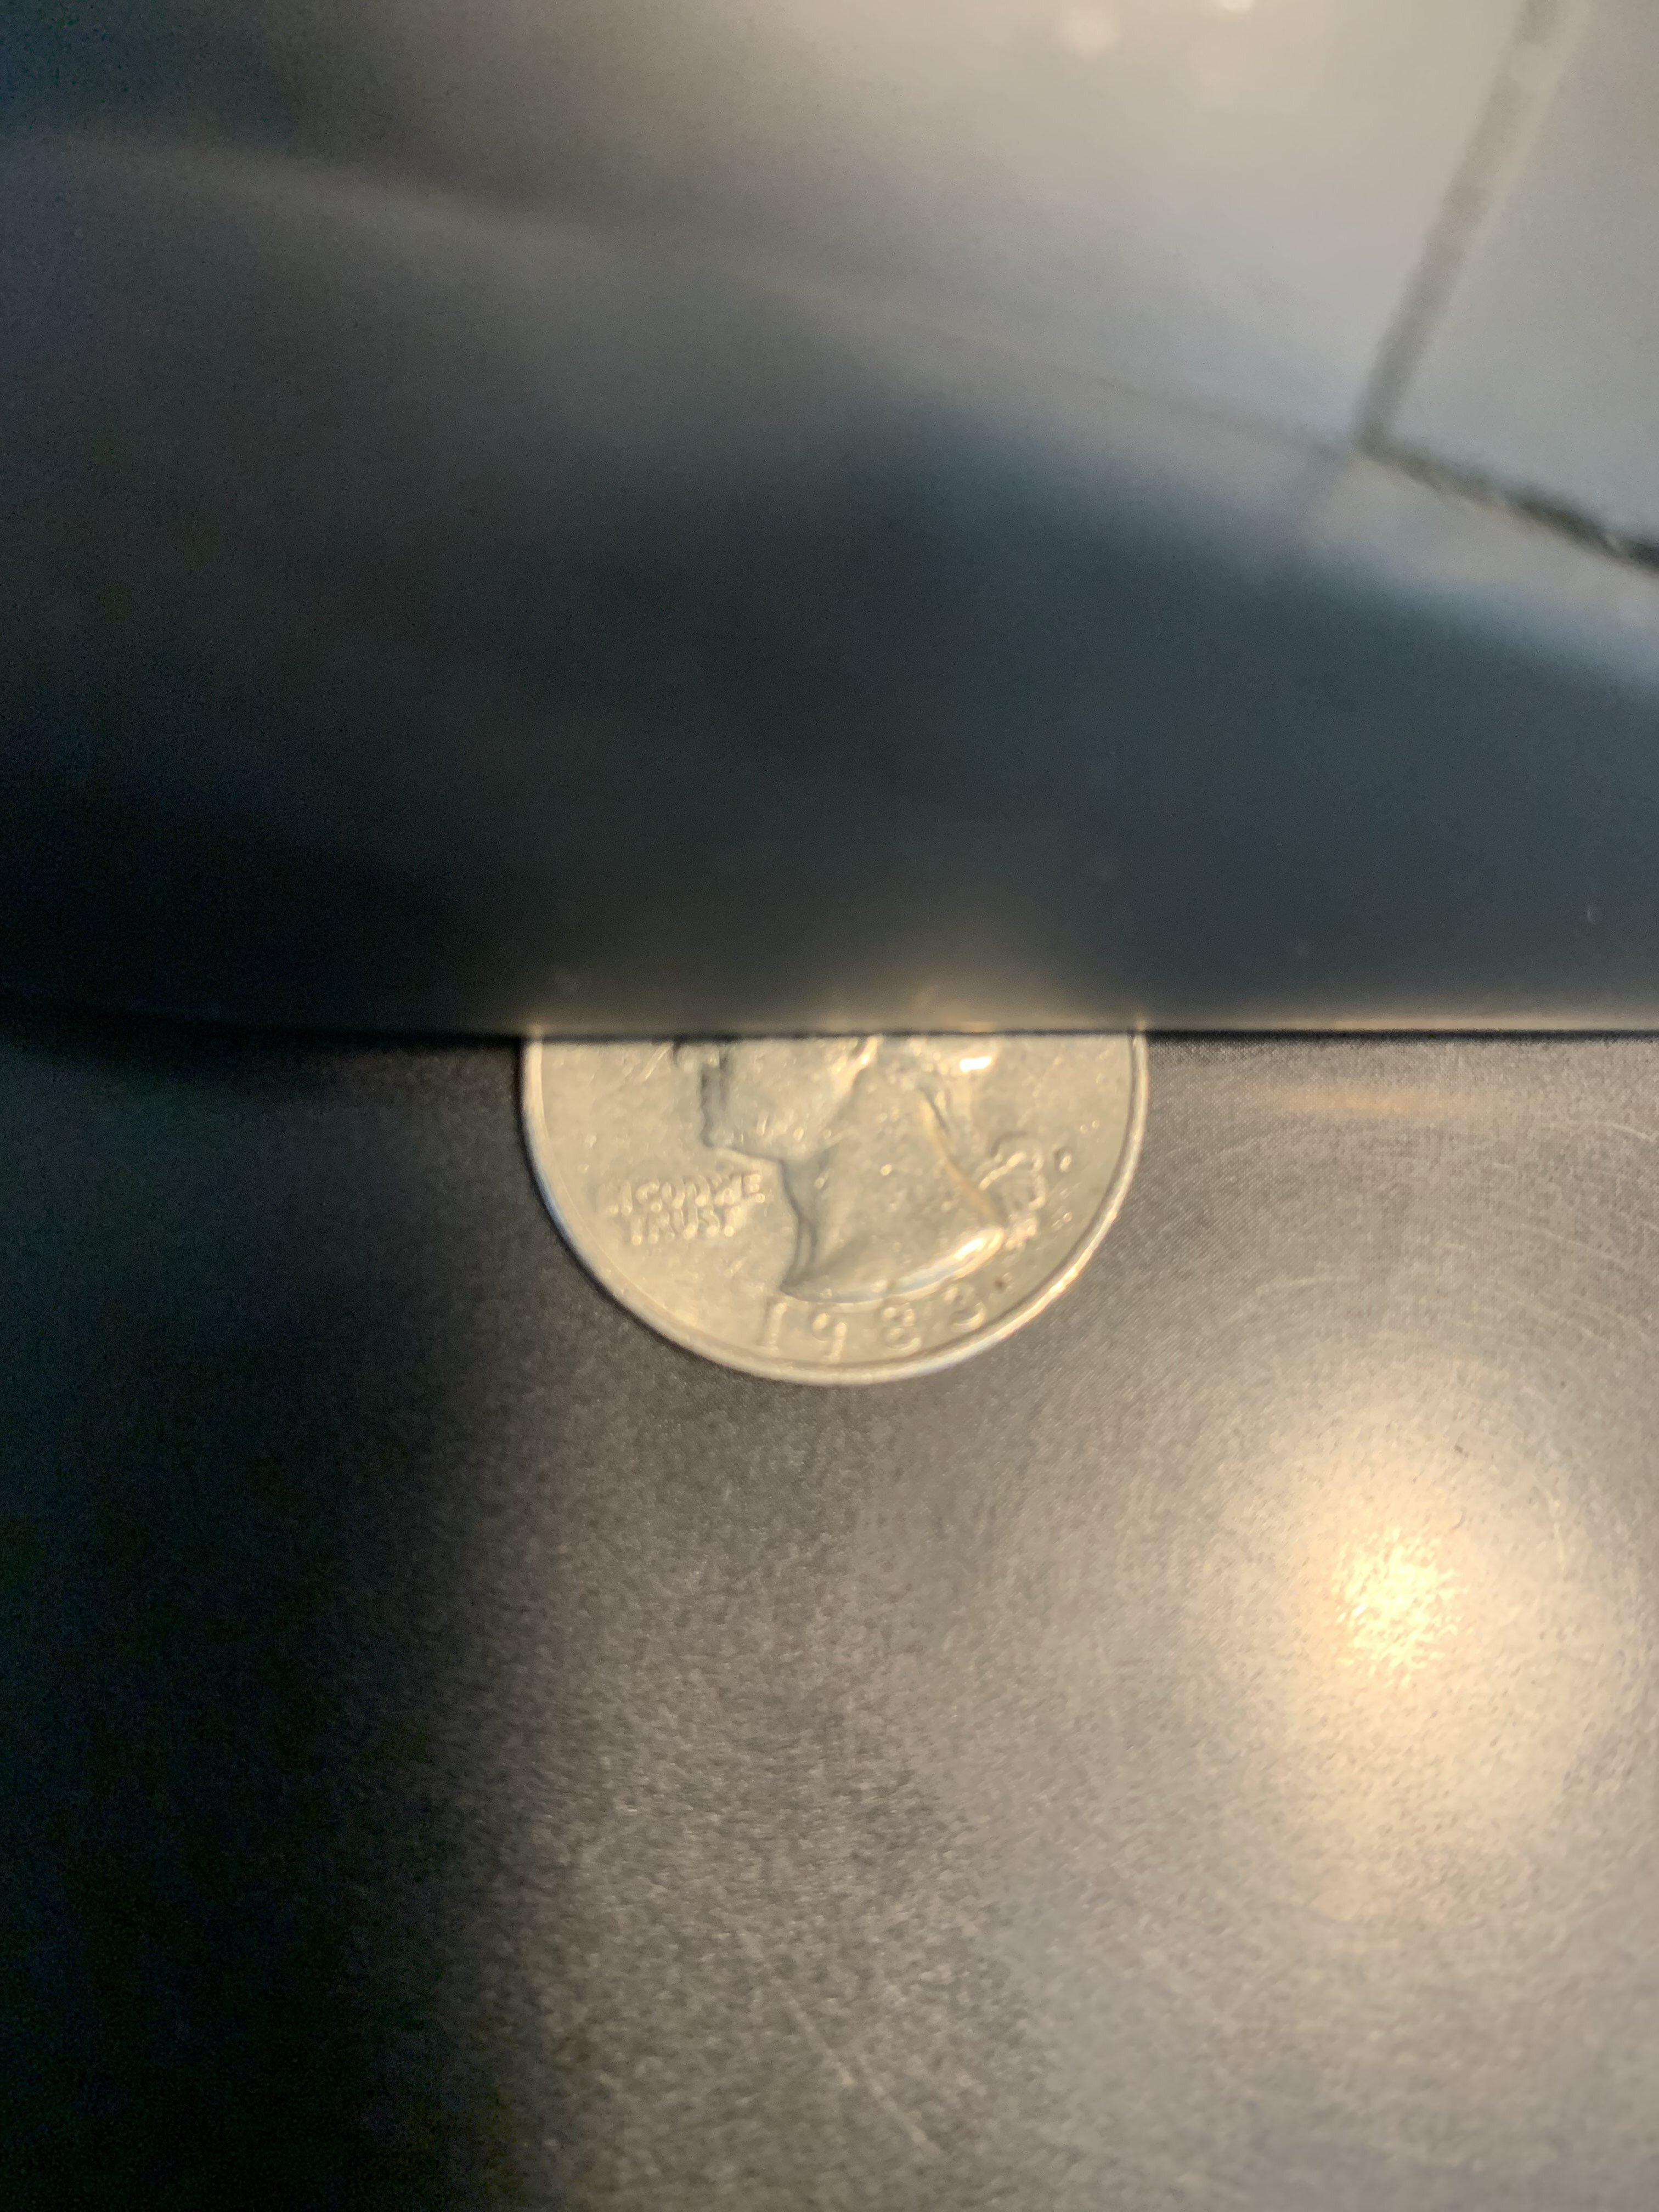Quarter: (460, 979, 1244, 1435)
